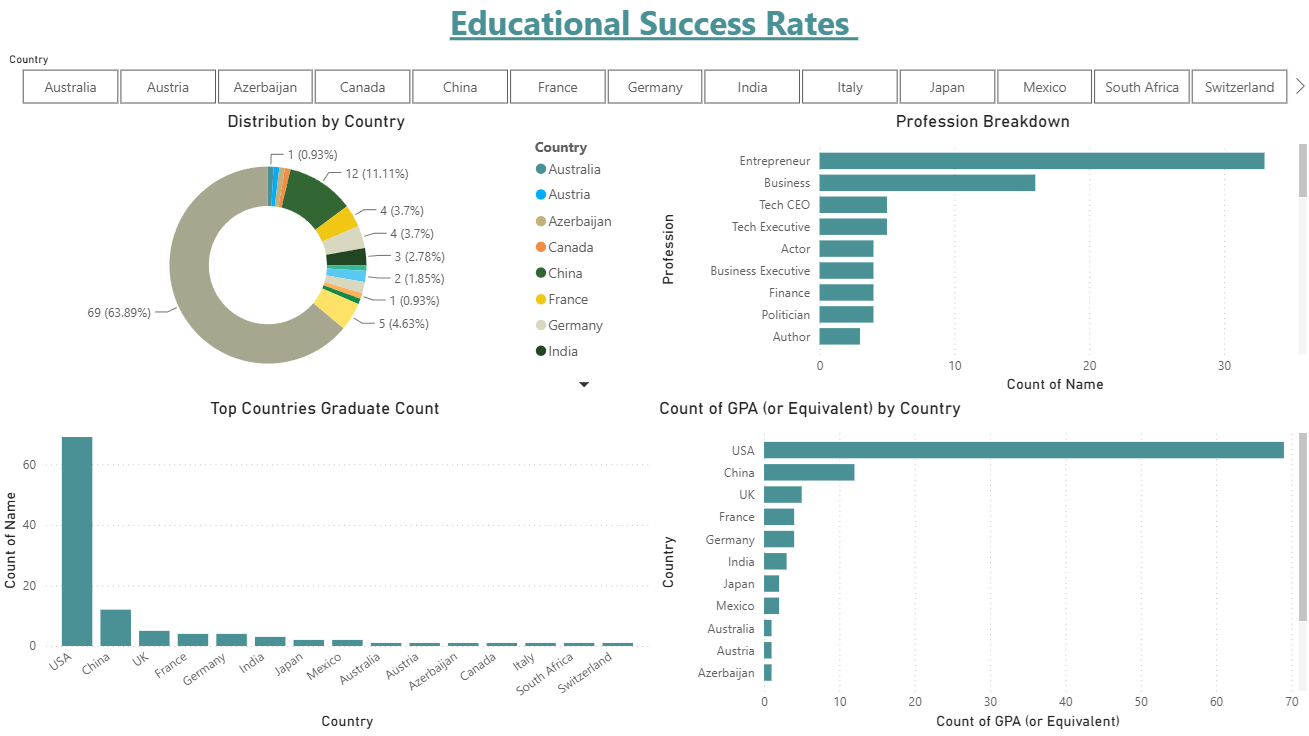

The page's visual inventory and layout, read from the dashboard file:
{"tool":"powerbi","page":{"name":"Page 1","canvas":[1280,720],"ordinal":0},"visuals":[{"type":"textbox","box":[0,0,1280,53],"z":0},{"type":"slicer","fields":{"Values":["successful_educations.Country"]},"box":[0,53,1280,60.9],"z":1},{"type":"clusteredBarChart","title":"Profession Breakdown","fields":{"Category":["successful_educations.Profession"],"Y":["CountNonNull(successful_educations.Name)"]},"box":[640,113.9,640,278.8],"z":2},{"type":"columnChart","title":"Top Countries Graduate Count","fields":{"Category":["successful_educations.Country"],"Y":["CountNonNull(successful_educations.Name)"]},"box":[0,392.6,640,327.2],"z":3},{"type":"donutChart","title":"Distribution by Country","fields":{"Series":["successful_educations.Country"],"Y":["CountNonNull(successful_educations.Name)"]},"box":[0,113.9,623,278.8],"z":4},{"type":"barChart","fields":{"Category":["successful_educations.Country"],"Y":["CountNonNull(successful_educations.GPA (or Equivalent))"]},"box":[640,393,640,327],"z":5}]}

Visuals, with their boxes in screenshot pixels (x1, y1, x2, y2), scaled from the page's 1280x720 canvas onto the 1309x736 screenshot:
textbox: [left=0, top=0, right=1308, bottom=54]
slicer - successful_educations.Country: [left=0, top=54, right=1308, bottom=116]
"Profession Breakdown" clusteredBarChart: [left=654, top=116, right=1308, bottom=401]
"Top Countries Graduate Count" columnChart: [left=0, top=401, right=654, bottom=735]
"Distribution by Country" donutChart: [left=0, top=116, right=637, bottom=401]
barChart - successful_educations.Country x CountNonNull(successful_educations.GPA (or Equivalent)): [left=654, top=402, right=1308, bottom=735]
